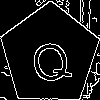Q: (25, 30, 75, 88)
